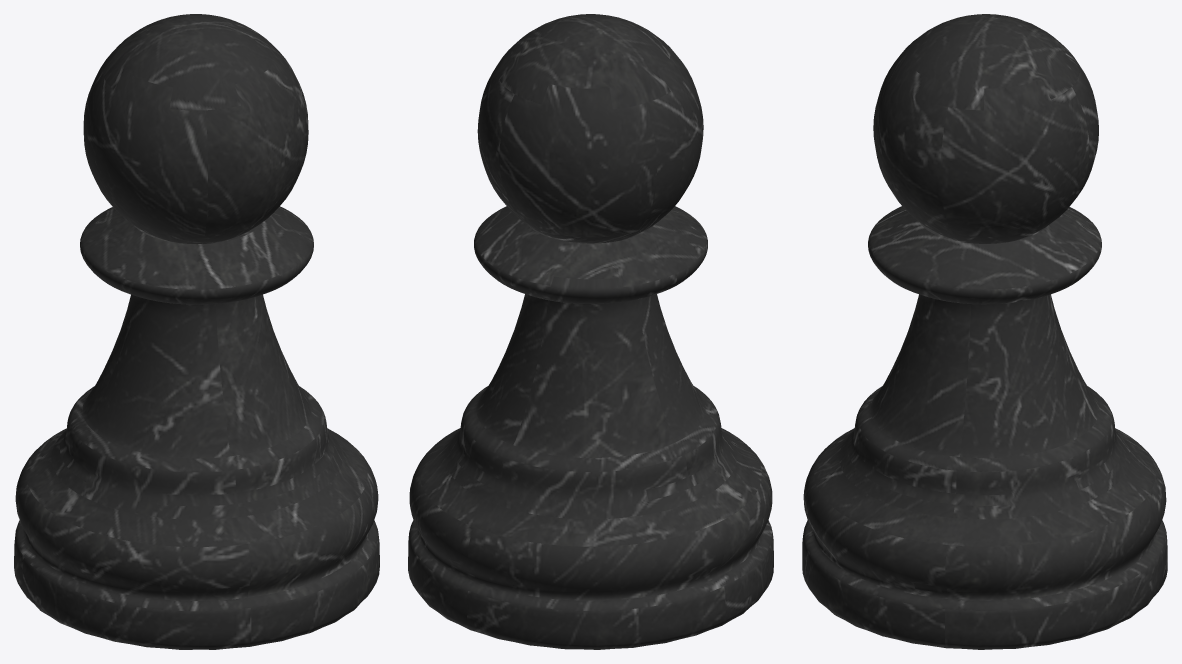
File: BPawn.glb
The picture shows the model from 3 angles, left to right: view 1: azimuth 30°, elevation 25°; view 2: azimuth 150°, elevation 25°; view 3: azimuth 270°, elevation 25°; orthographic projection.
Visible parts, largest first — view 1: Circle.005; view 2: Circle.005; view 3: Circle.005.
Boxes of the visible parts, x1,y1,x2,y2 form: Circle.005: [14, 14, 379, 649]; Circle.005: [408, 14, 773, 649]; Circle.005: [802, 14, 1167, 649].
Size of the model in its own units: 2.2 by 3.69 by 2.2.
1 material, 1 textured.
